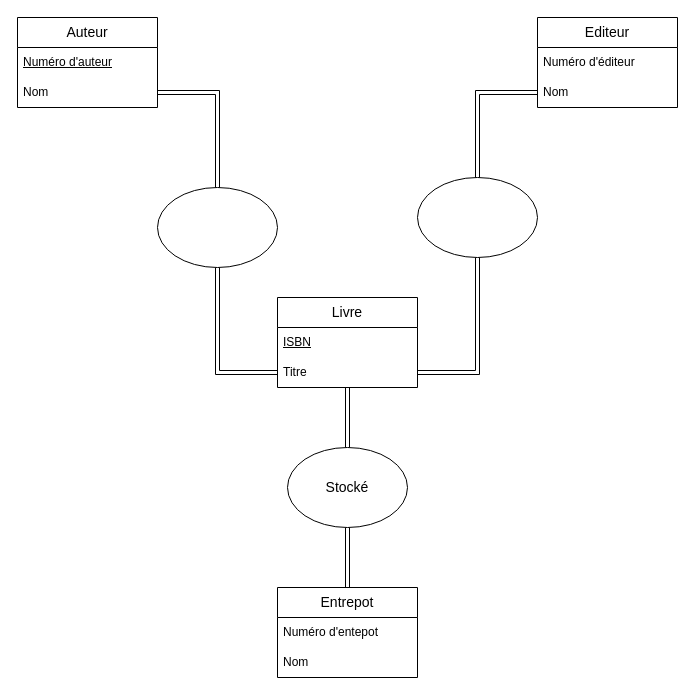
The diagram is 695 pixels wide and 695 high, and some of its shapes have lost their labels. Each missing label, with the centre of its shape:
Ecrit: [217,227]
Editer Année: [477,217]
